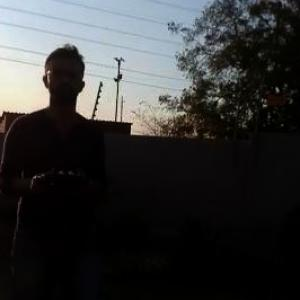follow: (0, 40, 113, 299)
